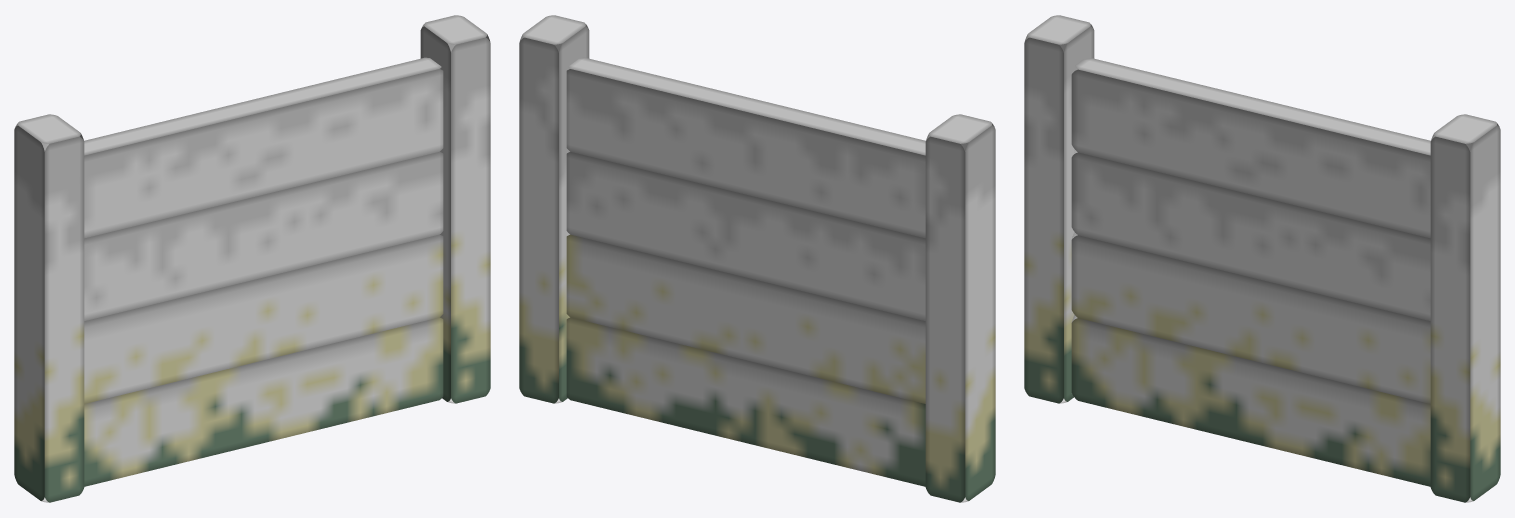
File: Tembok_Beton.fbx
3 renders of one model, left to right at view 1: azimuth 30°, elevation 25°; view 2: azimuth 150°, elevation 25°; view 3: azimuth 330°, elevation 25°, orthographic.
Visible parts, largest first — view 1: Tembok_4, Tembok_1, Tembok_2, Tembok_3, Tiang, Tiang_1; view 2: Tembok_4, Tembok_1, Tembok_2, Tembok_3, Tiang, Tiang_1; view 3: Tembok_4, Tembok_1, Tembok_2, Tembok_3, Tiang_1, Tiang.
Boxes of the visible parts, x1=… form: Tembok_4: x1=84, y1=57, x2=443, y2=238; Tembok_1: x1=84, y1=317, x2=443, y2=486; Tembok_2: x1=84, y1=234, x2=443, y2=403; Tembok_3: x1=84, y1=152, x2=443, y2=320; Tiang: x1=14, y1=114, x2=84, y2=502; Tiang_1: x1=420, y1=15, x2=490, y2=403; Tembok_4: x1=566, y1=57, x2=925, y2=238; Tembok_1: x1=566, y1=317, x2=925, y2=486; Tembok_2: x1=566, y1=234, x2=925, y2=403; Tembok_3: x1=566, y1=152, x2=925, y2=320; Tiang: x1=925, y1=114, x2=995, y2=502; Tiang_1: x1=519, y1=15, x2=589, y2=403; Tembok_4: x1=1071, y1=58, x2=1430, y2=238; Tembok_1: x1=1071, y1=315, x2=1430, y2=486; Tembok_2: x1=1071, y1=232, x2=1430, y2=403; Tembok_3: x1=1071, y1=150, x2=1430, y2=320; Tiang_1: x1=1430, y1=114, x2=1500, y2=502; Tiang: x1=1024, y1=15, x2=1094, y2=403.
Bounding box in the file's own units: 845 × 650 × 100.
Materials: 1 (1 with a texture image).
